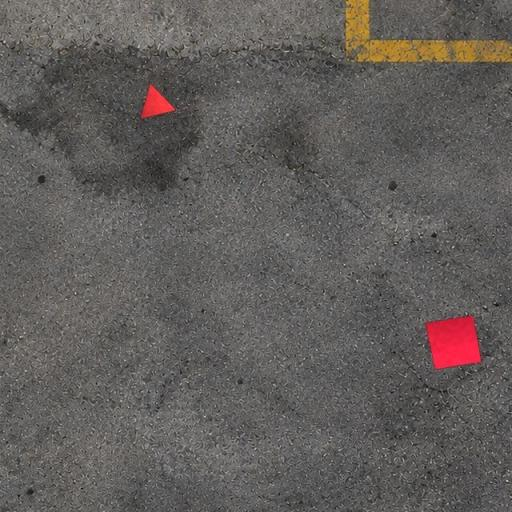RED_SQUARE: (425, 314, 482, 370)
